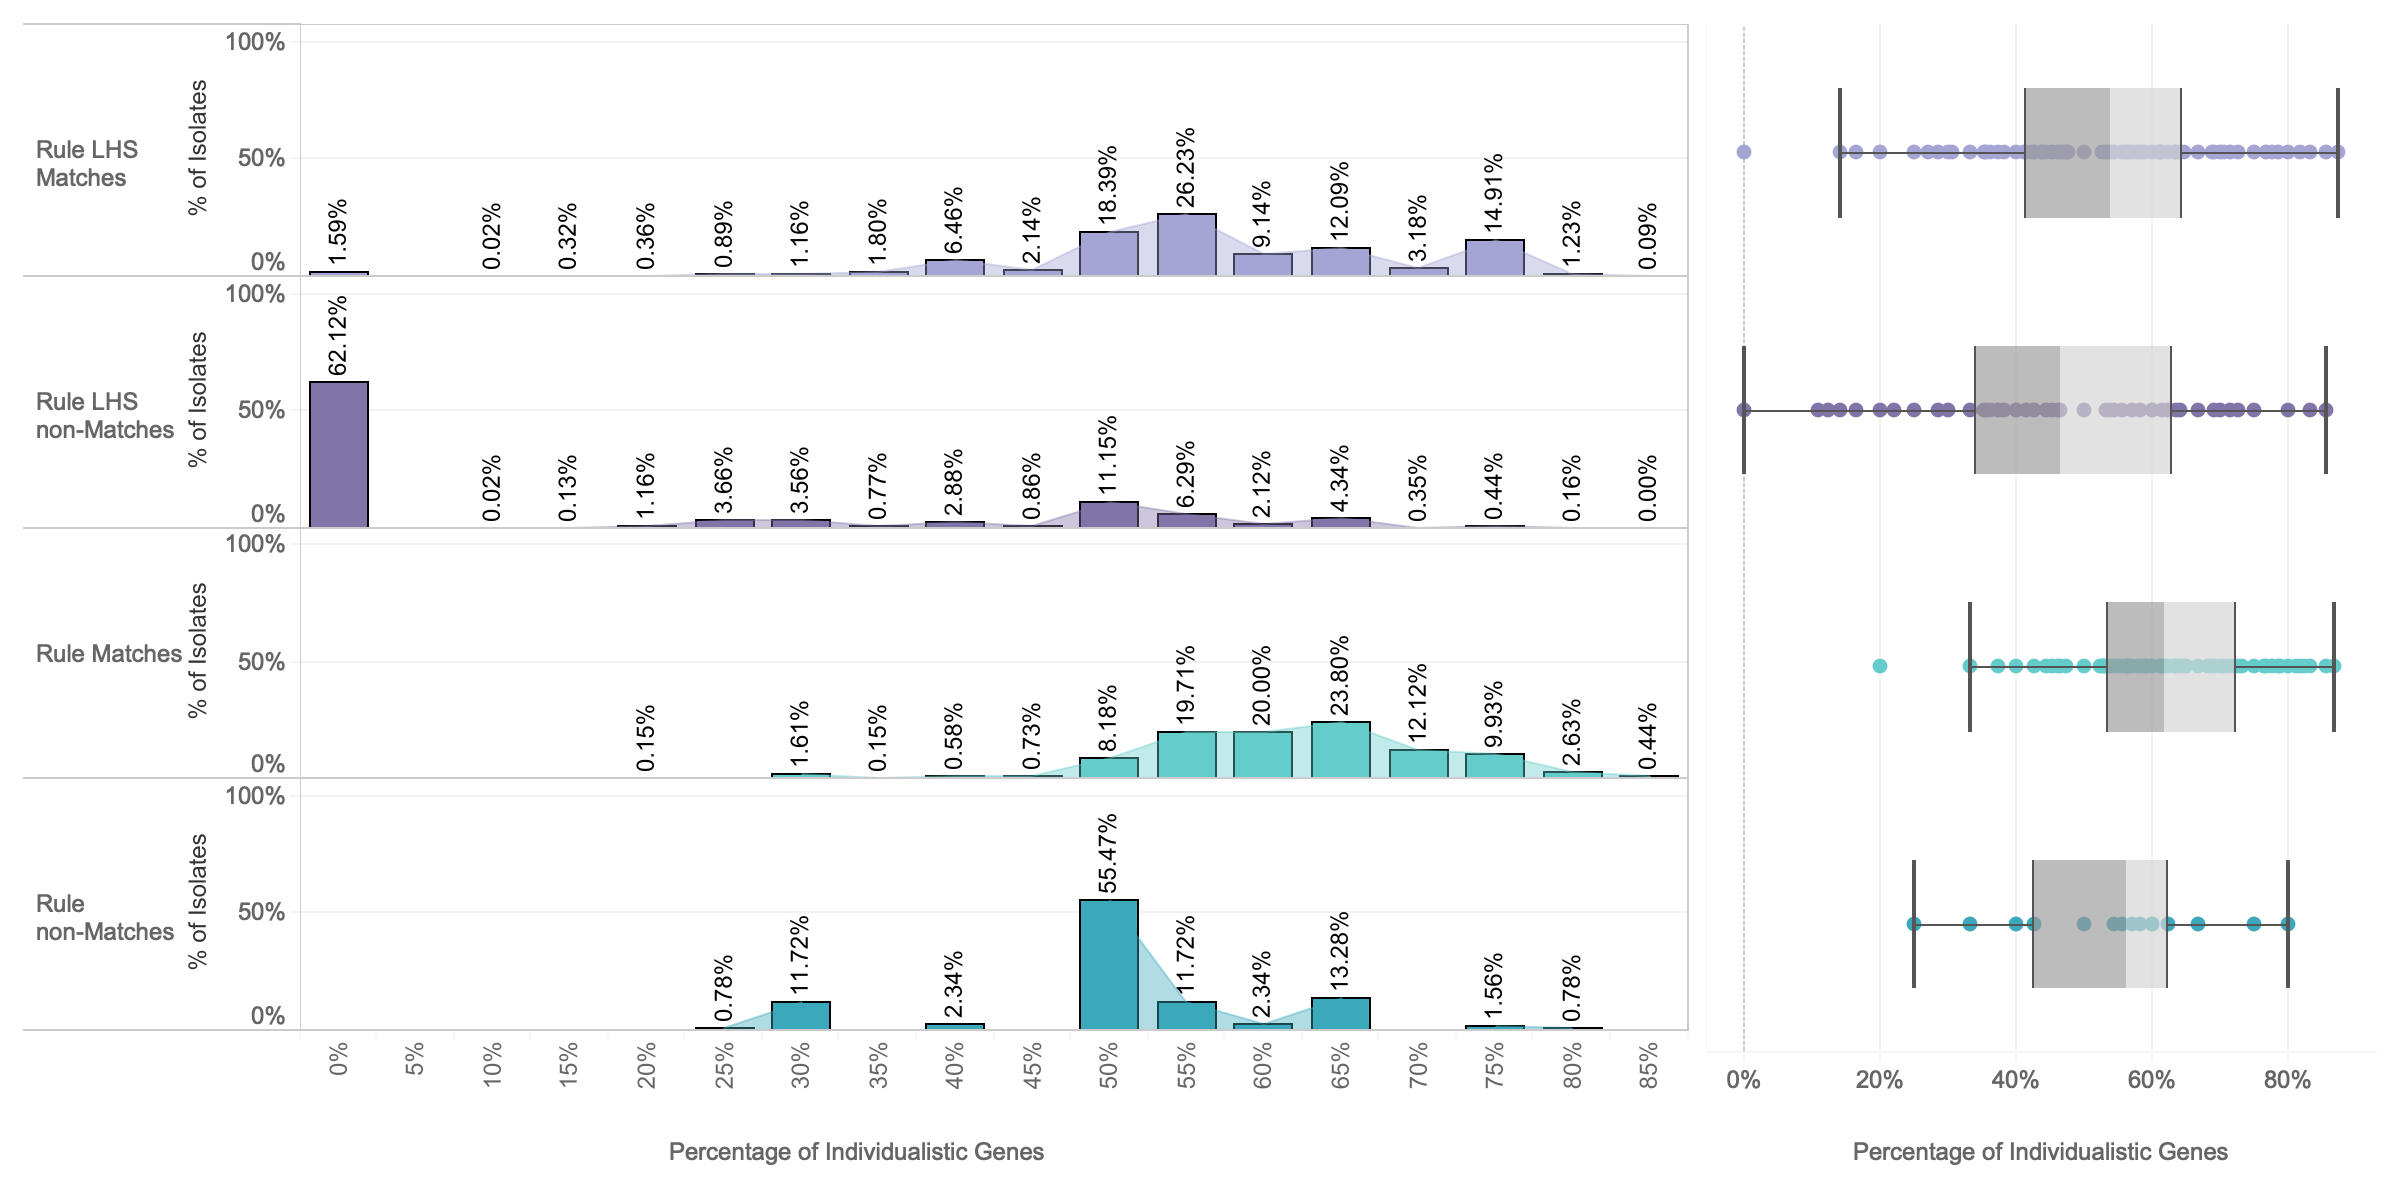

Layout of this report page (visuals, bound fields, positions):
{"tool":"tableau","page":{"name":"Dist Dashboard","canvas":[850,700],"ordinal":3},"visuals":[{"type":"worksheet","title":"Separate Dists","mark":"Automatic","rows":["set","Number of Records","Number of Records"],"cols":["Pctself (bin)"],"box":[8,8,834,638.8]},{"type":"text","box":[8,646.8,834,45.2]}]}

Visuals, with their boxes on the page's 850x700 design canvas (x1, y1, x2, y2). These are canvas units, not pixel positions in the 2400x1200 screenshot, which may show the page scaled, cropped or inside an application window:
"Separate Dists" worksheet: x1=8, y1=8, x2=842, y2=647
text: x1=8, y1=647, x2=842, y2=692
